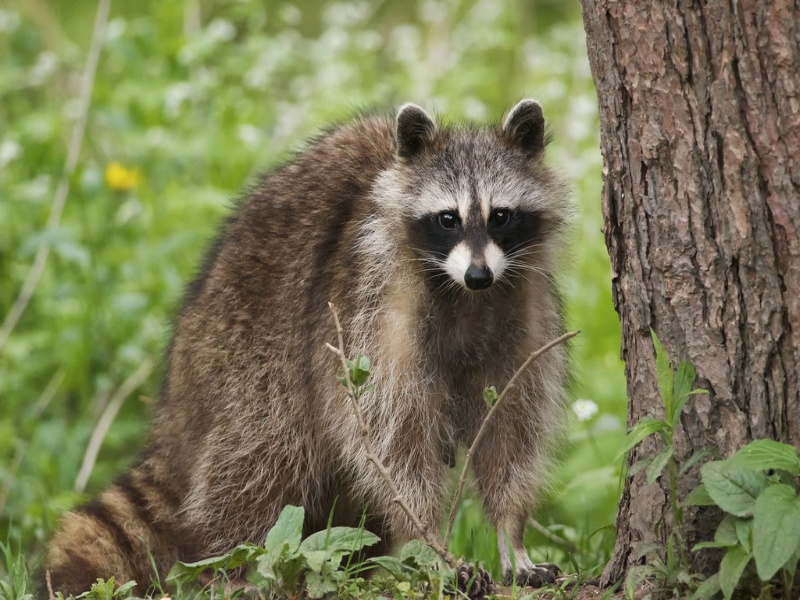raccoon: (31, 101, 567, 600)
